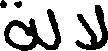X: (0, 0, 36, 50), (78, 0, 107, 50), (47, 4, 60, 50)
